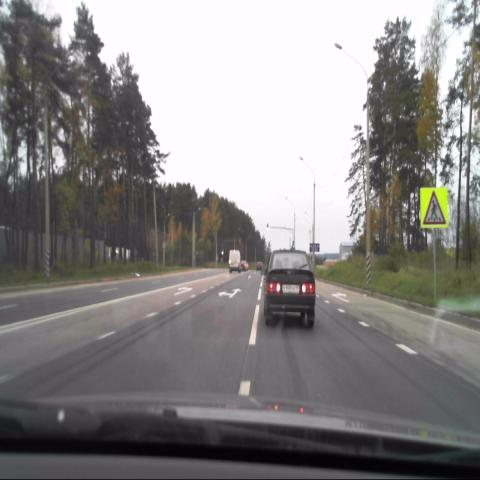1_22: (419, 186, 448, 229)
